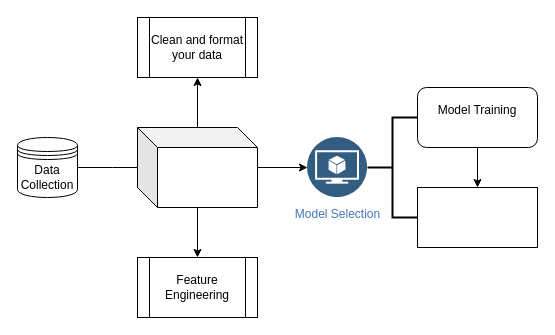
This 555x335 diagram has some shape labels left out. Each missing label, with the centre of its shape:
"Data Preprocessing" belongs at (197,167).
"Model Evaluation" belongs at (477,217).
